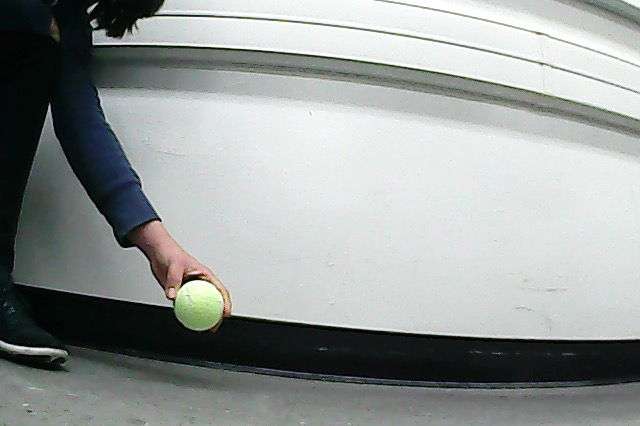ball: (175, 280, 225, 331)
